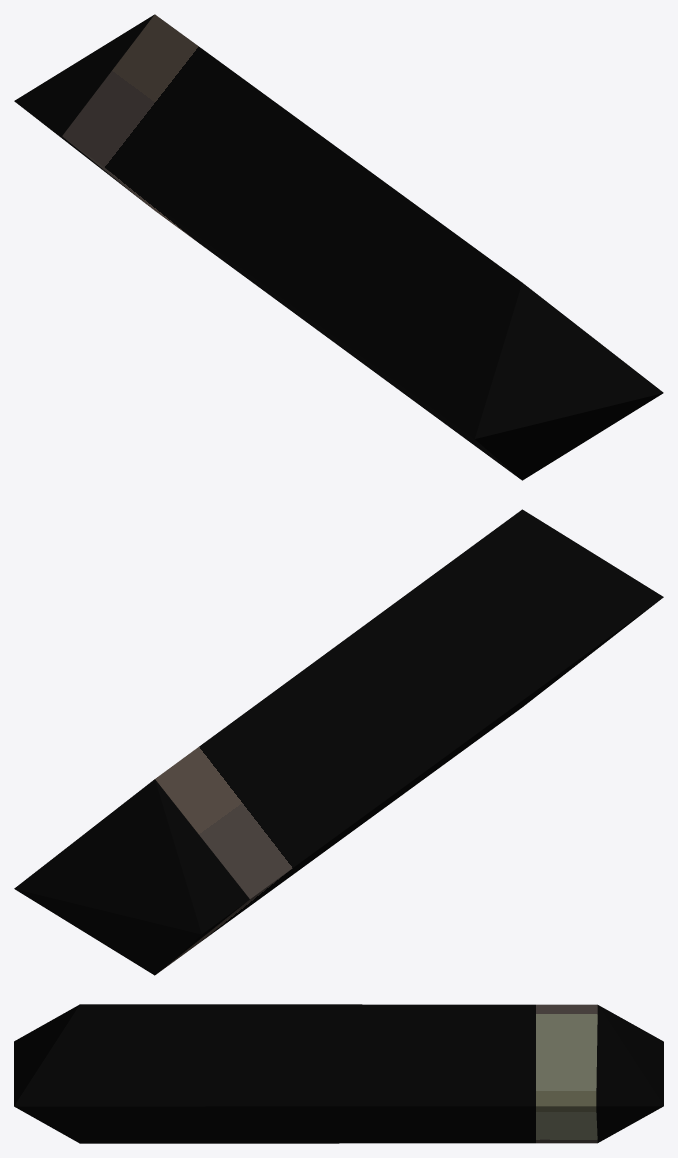
The model's file is elm_thin_trunk_horizontal.obj.
3 views of the same model, one above another, from view 1: azimuth 30°, elevation 25°; view 2: azimuth 150°, elevation 25°; view 3: azimuth 270°, elevation 25° (orthographic). The views are drawn at different scales.
Visible parts, largest first — view 1: cube_selection_selection; view 2: cube_selection_selection; view 3: cube_selection_selection.
Part boxes in pixels (x1,y1,x2,y2): cube_selection_selection: (14, 14, 663, 480); cube_selection_selection: (14, 509, 663, 975); cube_selection_selection: (14, 1004, 663, 1143).
Bounding box in the file's own units: 0.3107 × 0.3104 × 1.31.
